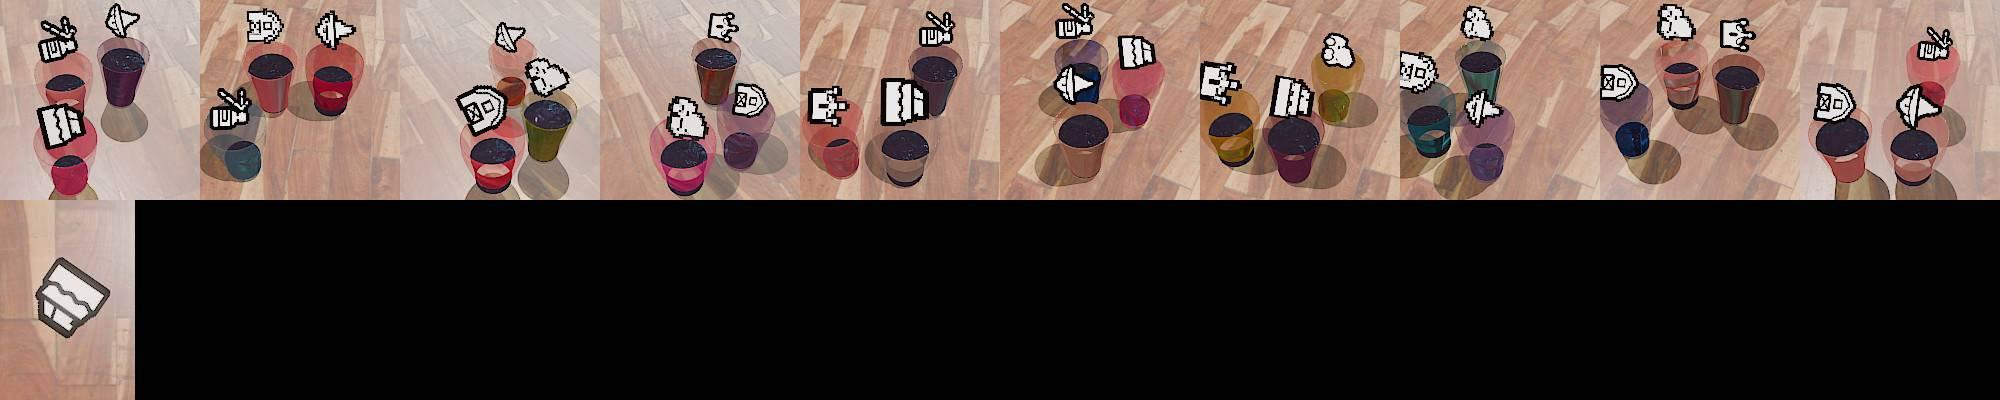icon: (34, 257, 111, 340), (455, 85, 506, 136), (36, 101, 85, 150), (1265, 73, 1316, 121), (880, 76, 929, 125), (1895, 84, 1943, 130), (208, 85, 253, 130), (1051, 64, 1097, 107), (38, 17, 80, 64), (666, 94, 708, 139), (524, 56, 570, 97), (806, 84, 849, 126), (1199, 60, 1240, 104), (1399, 50, 1439, 94), (1814, 82, 1856, 122), (314, 10, 355, 51), (1055, 1, 1096, 41), (1656, 3, 1696, 42), (1601, 62, 1639, 101), (1117, 34, 1157, 71), (245, 8, 284, 45), (1463, 90, 1503, 126), (917, 10, 954, 47), (1718, 18, 1756, 54), (105, 3, 140, 39), (1917, 25, 1953, 61), (732, 82, 768, 117), (1320, 32, 1355, 69), (1460, 5, 1495, 41), (494, 20, 526, 54), (707, 11, 740, 42)
